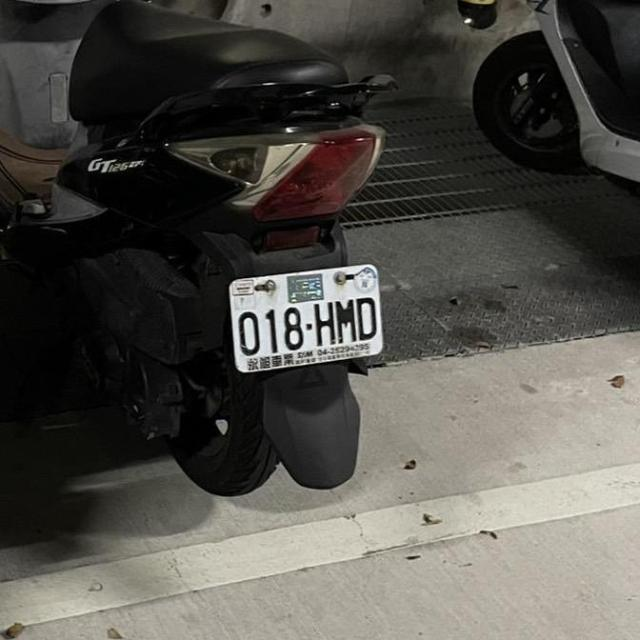W: (223, 257, 392, 382)
